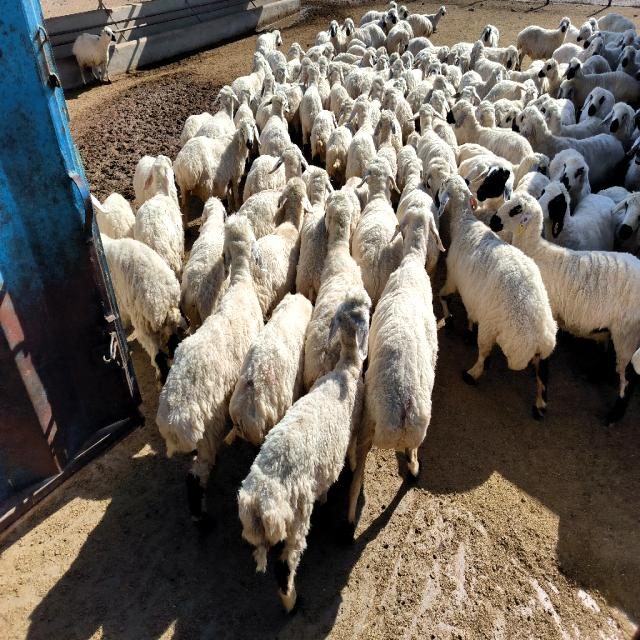sheep: (238, 287, 371, 612), (491, 193, 640, 422), (156, 215, 264, 527), (348, 207, 440, 534), (439, 175, 556, 418), (101, 233, 188, 388), (225, 293, 312, 447), (304, 190, 362, 392), (172, 118, 259, 231), (512, 105, 626, 191), (251, 177, 311, 316), (351, 157, 402, 306), (181, 197, 230, 334), (134, 155, 184, 279), (448, 100, 532, 165), (539, 182, 615, 251), (296, 168, 332, 303), (566, 58, 640, 109), (414, 103, 458, 173), (540, 98, 609, 139), (396, 159, 438, 226), (516, 17, 570, 69), (326, 98, 356, 186), (550, 148, 591, 212), (458, 155, 515, 201), (280, 58, 311, 141), (345, 97, 376, 179), (72, 27, 116, 84), (238, 187, 284, 238), (196, 85, 238, 138), (599, 187, 640, 240), (259, 92, 291, 156), (242, 155, 286, 201), (601, 102, 640, 152), (381, 87, 415, 144), (231, 52, 271, 99), (300, 63, 322, 148), (430, 90, 458, 153), (406, 62, 441, 112), (458, 67, 510, 100), (375, 110, 398, 178), (552, 37, 605, 63), (311, 110, 336, 163), (470, 40, 501, 81), (344, 18, 386, 48), (330, 62, 349, 116), (399, 7, 432, 38), (539, 58, 562, 98), (279, 147, 308, 178), (385, 22, 412, 55), (484, 45, 519, 70), (588, 87, 615, 119), (369, 75, 385, 128), (424, 5, 446, 32), (286, 43, 304, 76), (329, 20, 346, 54), (256, 30, 282, 51), (256, 98, 272, 132), (406, 37, 434, 56), (425, 240, 439, 274), (481, 25, 499, 48), (275, 65, 289, 85)
